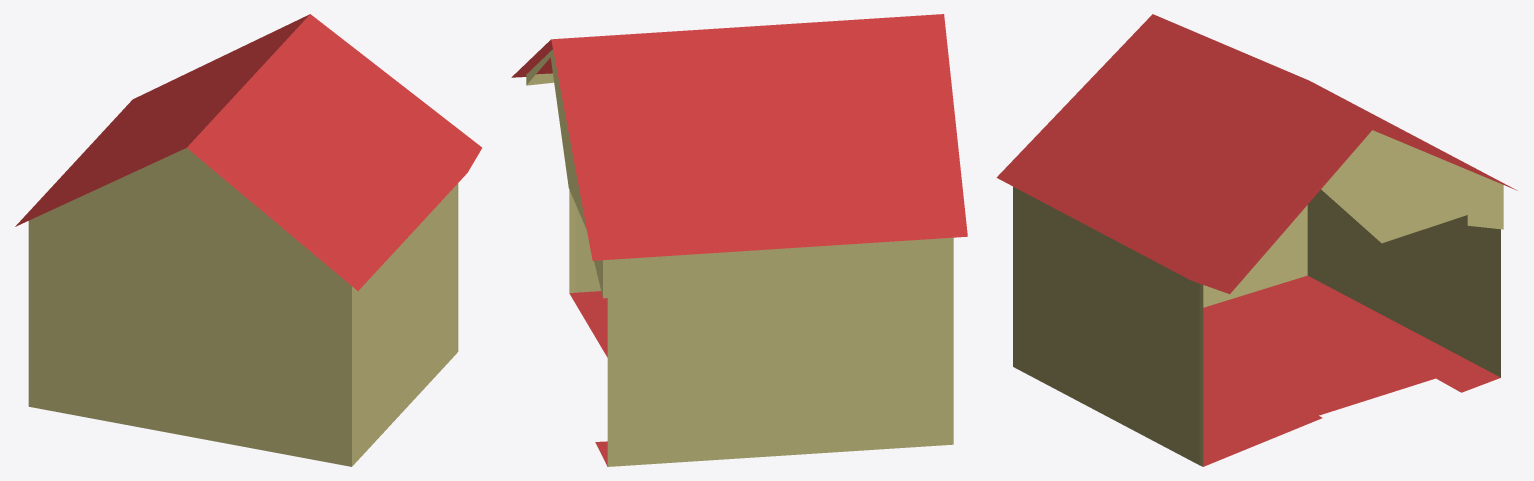
The picture shows the model from 3 angles, left to right: view 1: azimuth 30°, elevation 25°; view 2: azimuth 150°, elevation 25°; view 3: azimuth 270°, elevation 25°; orthographic projection. The views are drawn at different scales.
Bounding box in the file's own units: 22.28 × 22.73 × 14.55.
